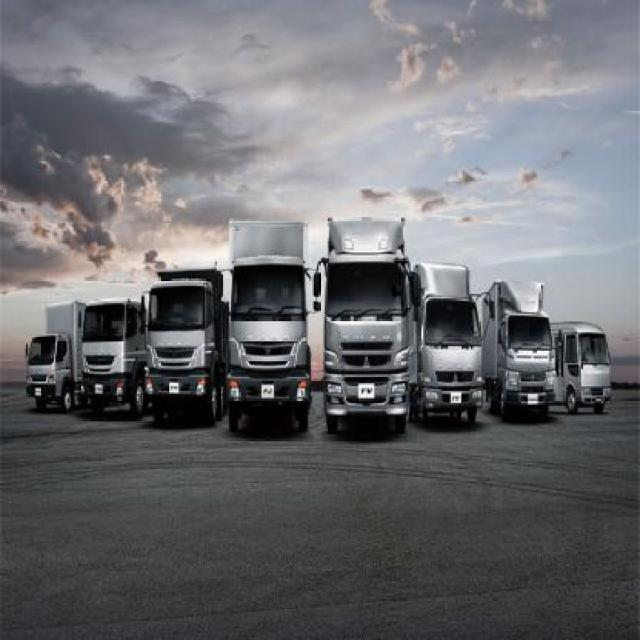truck: (310, 209, 424, 432), (225, 210, 312, 430), (144, 261, 229, 426), (409, 256, 481, 438), (479, 274, 555, 434), (77, 290, 148, 427), (22, 301, 83, 415)
